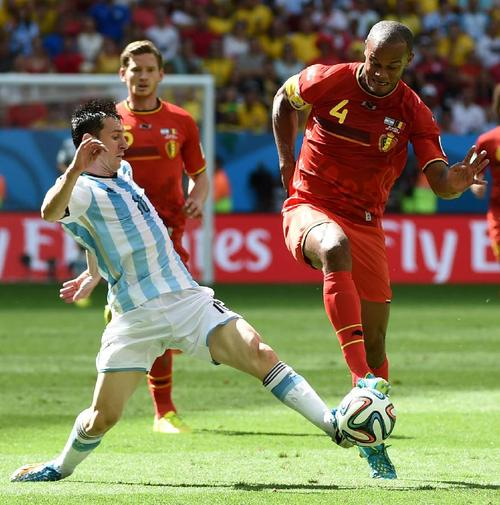football: (335, 378, 399, 452)
